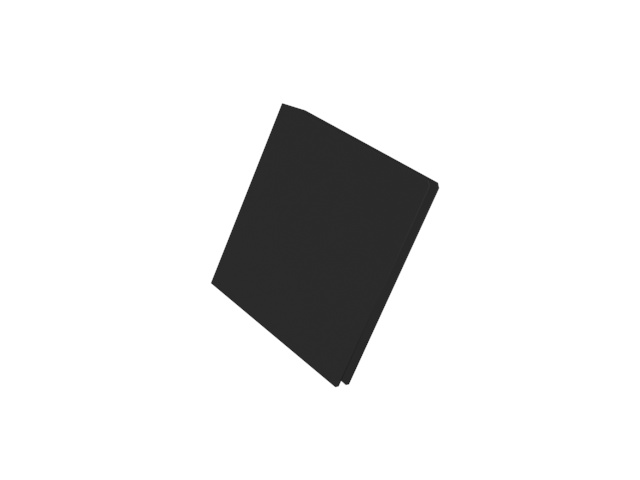ring_binder: (209, 97, 440, 392)
